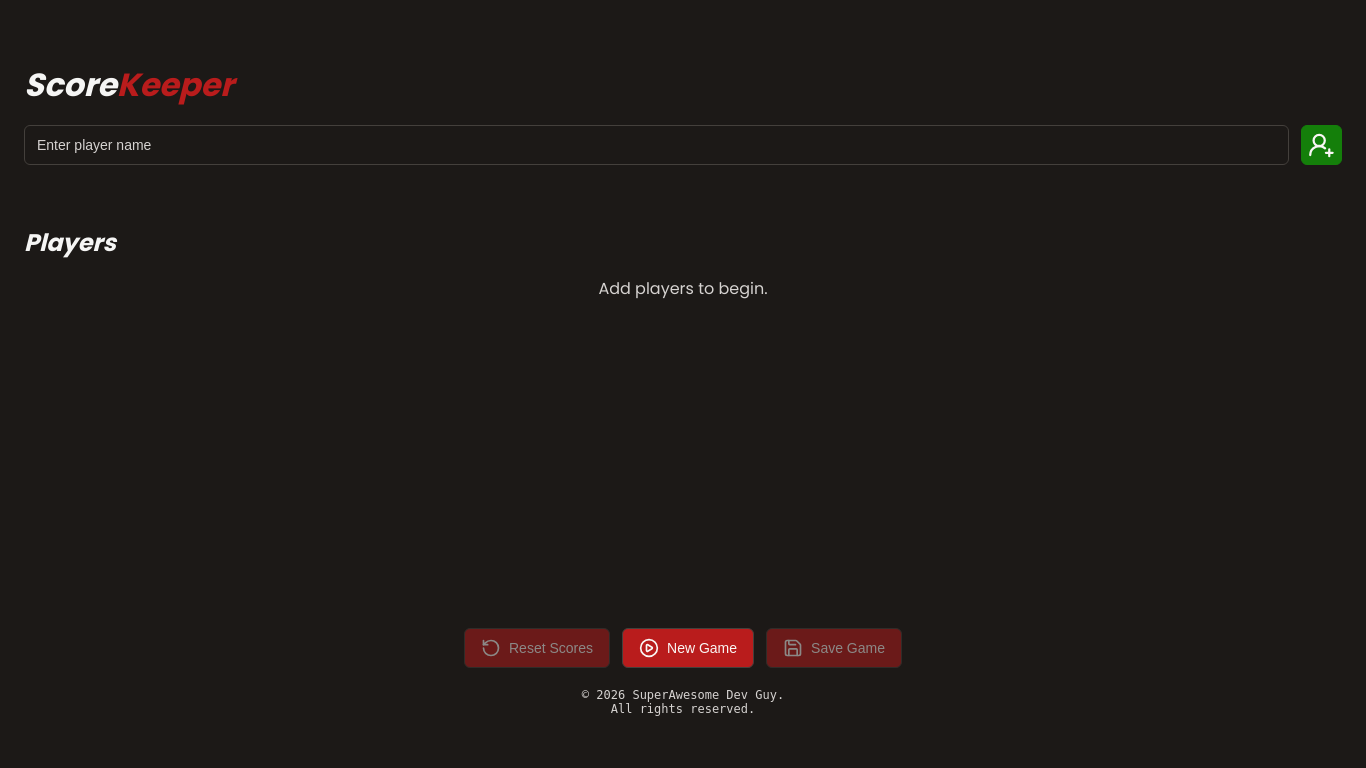
ScorekeeperPage (integration) › shows toast when adding player with empty name
The width and height of the screenshot is (1366, 768).
Click the button named "Add player": (1322, 145) top-left (1301, 125), bottom-right (1342, 165)
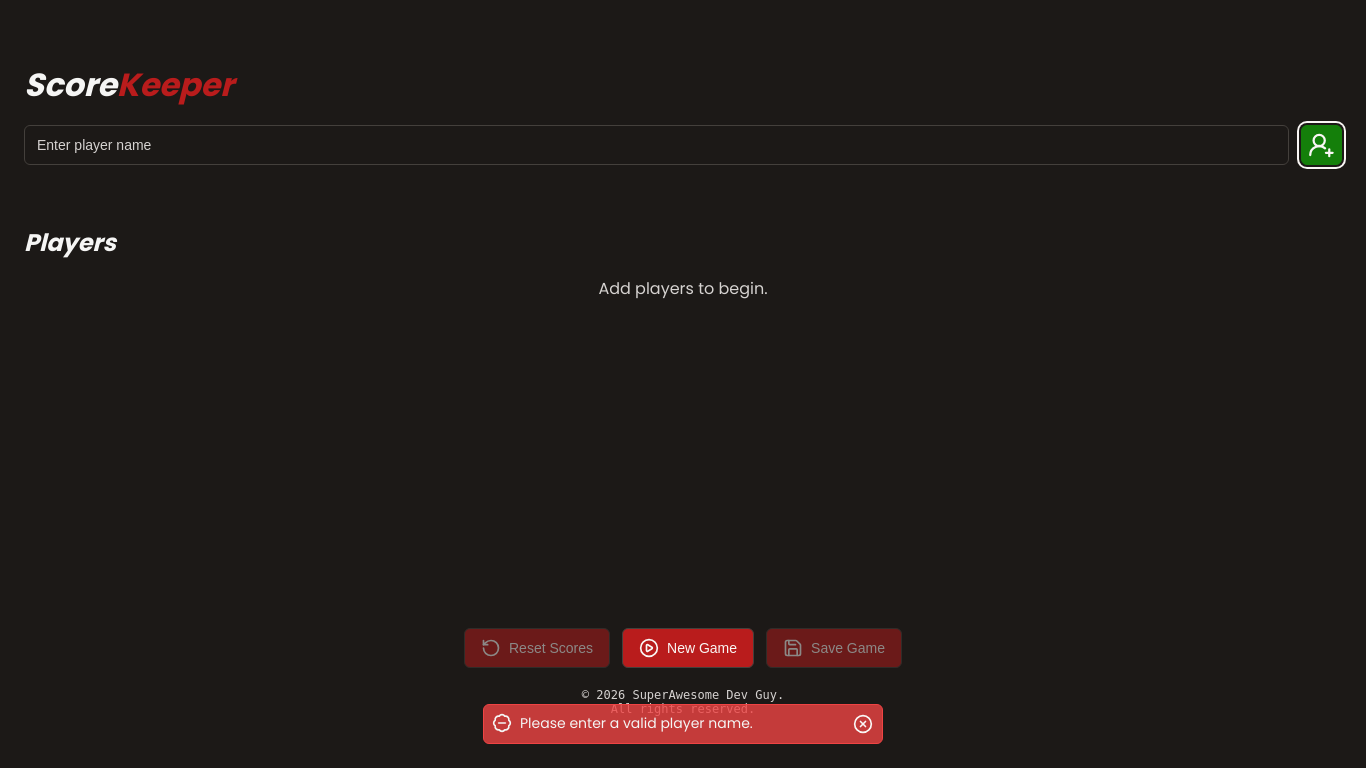
Expected: the text "Please enter a valid player name." is shown, top-left (520, 713), bottom-right (753, 734)
